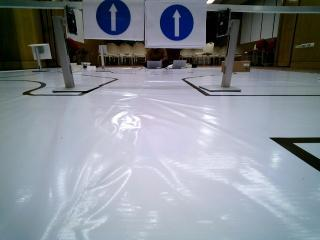straight: (144, 0, 204, 46), (87, 2, 142, 39)
